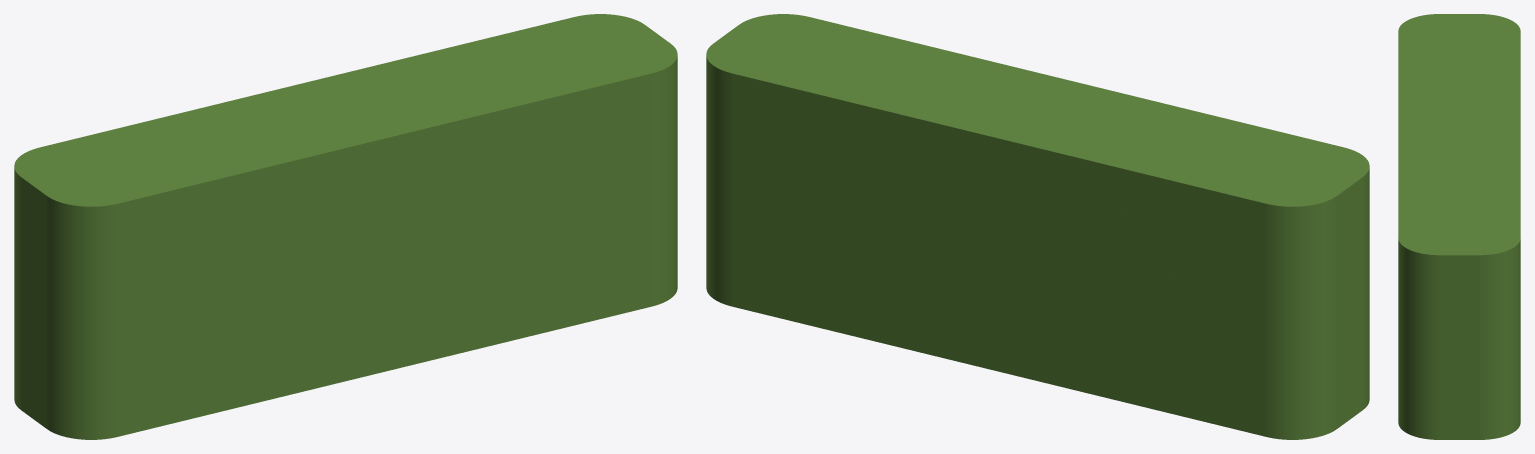
The model's file is Hedge2.fbx.
3 renders of one model, left to right at view 1: azimuth 30°, elevation 25°; view 2: azimuth 150°, elevation 25°; view 3: azimuth 270°, elevation 25°, orthographic. The views are drawn at different scales.
Visible parts, largest first — view 1: block (×90), block_corner_round_large (×12); view 2: block (×90), block_corner_round_large (×12); view 3: block (×42), block_corner_round_large (×12).
Boxes of the visible parts, left/top/right/bottom form: block (×90): left=21, top=17, right=670, bottom=436; block_corner_round_large (×12): left=14, top=14, right=677, bottom=439; block (×90): left=713, top=17, right=1362, bottom=436; block_corner_round_large (×12): left=706, top=14, right=1369, bottom=439; block (×42): left=1398, top=14, right=1520, bottom=439; block_corner_round_large (×12): left=1398, top=14, right=1520, bottom=439.
Size of the model in its own units: 12.6 by 4.5 by 2.7.
